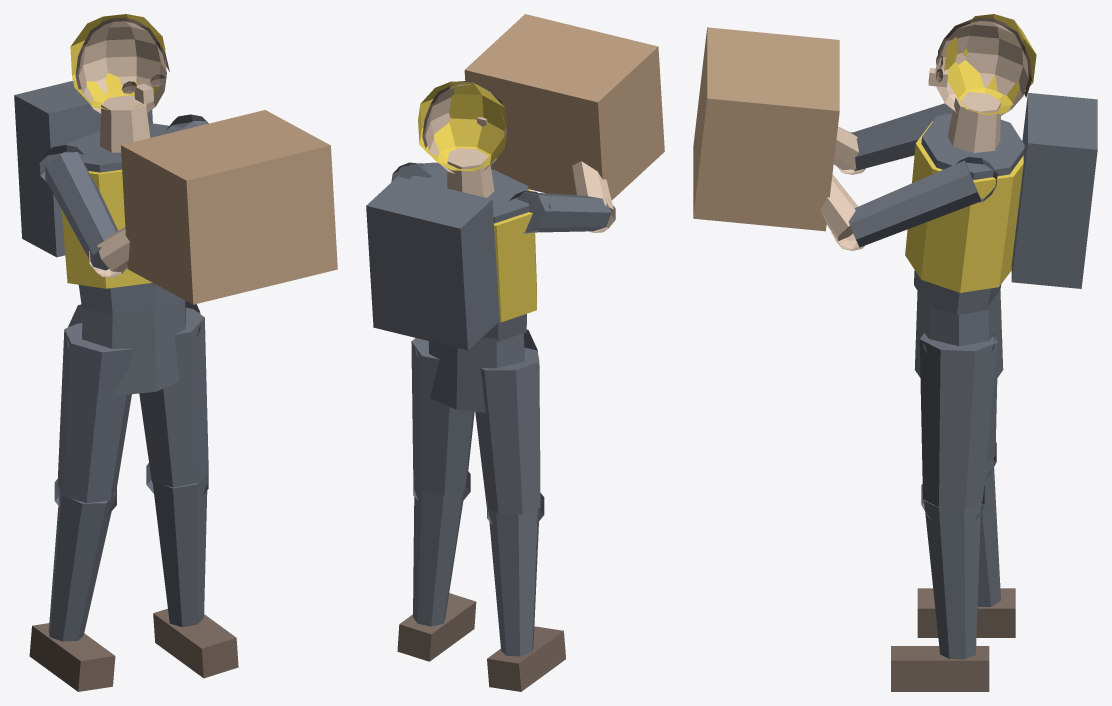
The model's file is low-poly-character-figures-courier-with-parcel-9ba10dd9.glb.
The picture shows the model from 3 angles, left to right: view 1: azimuth 30°, elevation 25°; view 2: azimuth 150°, elevation 25°; view 3: azimuth 270°, elevation 25°; orthographic projection. The views are drawn at different scales.
Parts seen in each view (by area): view 1: courier-with-parcel; view 2: courier-with-parcel; view 3: courier-with-parcel.
Boxes of the visible parts, x1,y1,x2,y2 form: courier-with-parcel: (14, 14, 337, 691); courier-with-parcel: (366, 14, 664, 691); courier-with-parcel: (693, 14, 1097, 691).
Bounding box in the file's own units: 0.5476 × 1.76 × 1.01.
